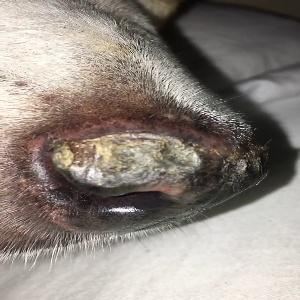keratosis: (31, 128, 274, 213)
